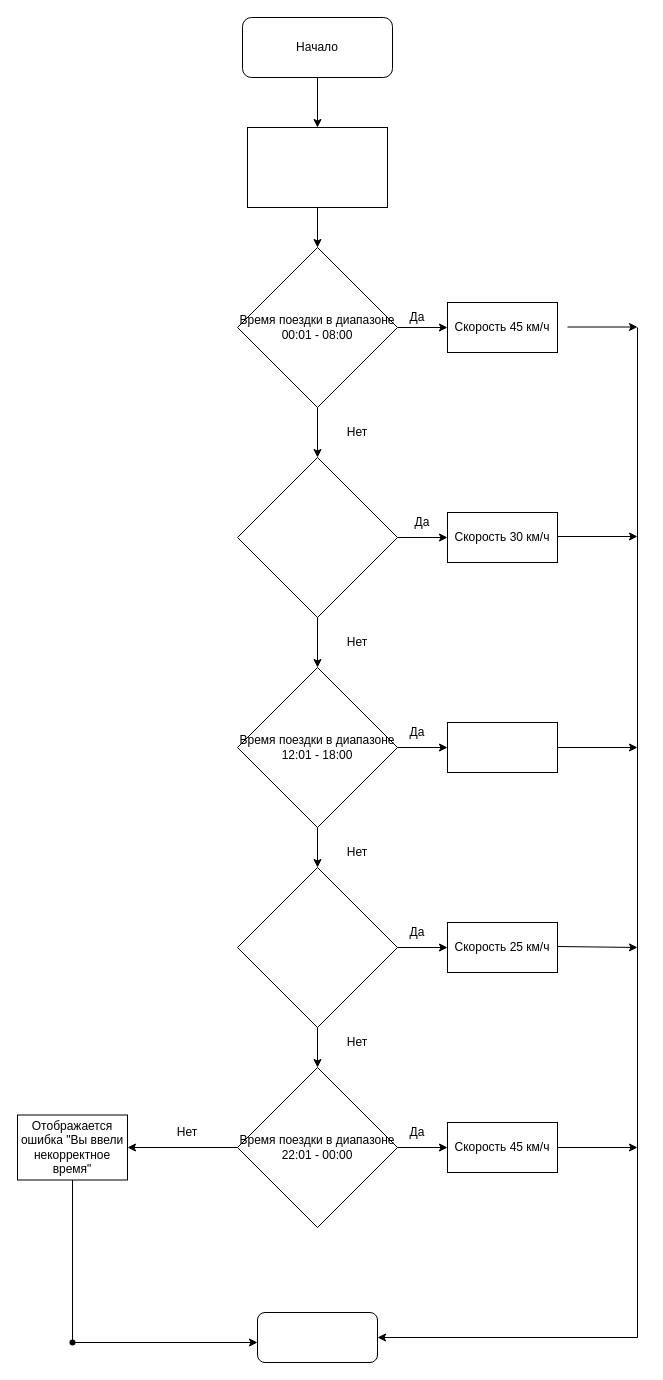
Some shapes in this 663 by 1380 pixel diagram are drawn without their labels. The shapes that lost their labels are listed below. From the top down, each one's centre as x and y in pixels, then its label:
At (317,167): "Ввод времени начала движения".
At (317,537): "Время поездки в диапазоне 08:01 - 12:00".
At (502,747): "Скорость 40 км/ч".
At (317,947): "Время поездки в диапазоне 18:01 - 22:00".
At (317,1337): "Конец".
